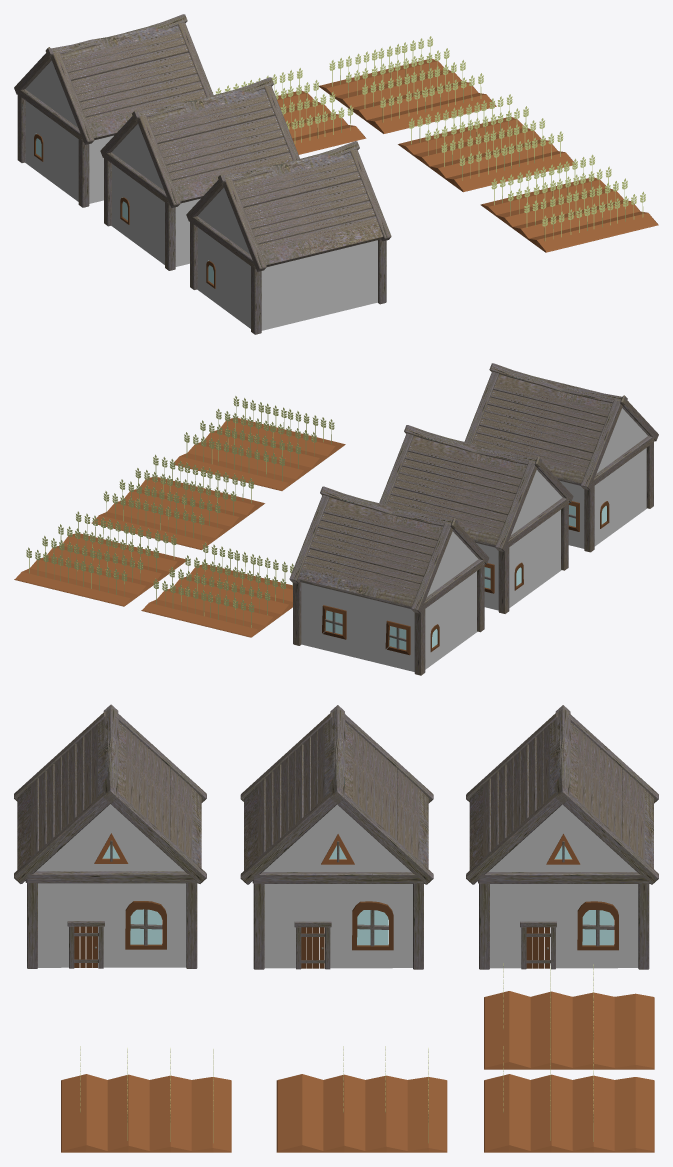
Rendered from field_lvl_2.fbx.
The picture shows the model from 3 angles, top to bottom: view 1: azimuth 30°, elevation 25°; view 2: azimuth 150°, elevation 25°; view 3: azimuth 270°, elevation 25°; orthographic projection. The views are drawn at different scales.
Parts seen in each view (by area): view 1: Cube.014, Cube.033, Cube.007, Cube.016, Plane.004, Plane.002, Plane.001, Cube.035, Cube.009, Plane.003, Plane.021, Plane.005 (+2 smaller); view 2: Cube.033, Cube.014, Cube.007, Cube.035, Plane.001, Plane.004, Plane.002, Plane.006, Cube.016, Cube.009, Plane.005, Plane.021 (+4 smaller); view 3: Cube.014, Cube.007, Cube.033, Cube.016, Cube.009, Cube.035, Plane.002, Plane.006, Plane.004, Plane.001, Cube.018, Cube.003 (+4 smaller).
Part boxes in pixels (x1,y1,x2,y2): Cube.014: (186, 141, 391, 334); Cube.033: (14, 14, 213, 207); Cube.007: (100, 77, 299, 270); Cube.016: (197, 188, 377, 330); Plane.004: (480, 177, 658, 252); Plane.002: (398, 117, 575, 192); Plane.001: (318, 59, 496, 133); Cube.035: (25, 60, 113, 203); Cube.009: (111, 124, 200, 266); Plane.003: (409, 94, 563, 180); Plane.021: (329, 36, 483, 122); Plane.005: (491, 154, 645, 240); Cube.033: (289, 486, 489, 675); Cube.014: (464, 363, 658, 552); Cube.007: (379, 425, 573, 613); Cube.035: (301, 531, 478, 671); Plane.001: (14, 533, 186, 606); Plane.004: (174, 418, 345, 490); Plane.002: (91, 477, 264, 549); Plane.006: (141, 564, 292, 637); Cube.016: (560, 408, 647, 548); Cube.009: (476, 470, 562, 610); Plane.005: (184, 396, 334, 481); Plane.021: (26, 511, 176, 596); Cube.014: (14, 704, 206, 968); Cube.007: (240, 705, 433, 969); Cube.033: (466, 705, 658, 969); Cube.016: (36, 804, 186, 967); Cube.009: (263, 804, 412, 968); Cube.035: (488, 804, 638, 968); Plane.002: (276, 1074, 447, 1152); Plane.006: (484, 991, 654, 1069); Plane.004: (61, 1074, 231, 1152); Plane.001: (484, 1074, 654, 1152); Cube.018: (526, 901, 618, 968); Cube.003: (301, 901, 393, 968).
Size of what is drawn, in the model's own units: 369 by 118 by 376.
